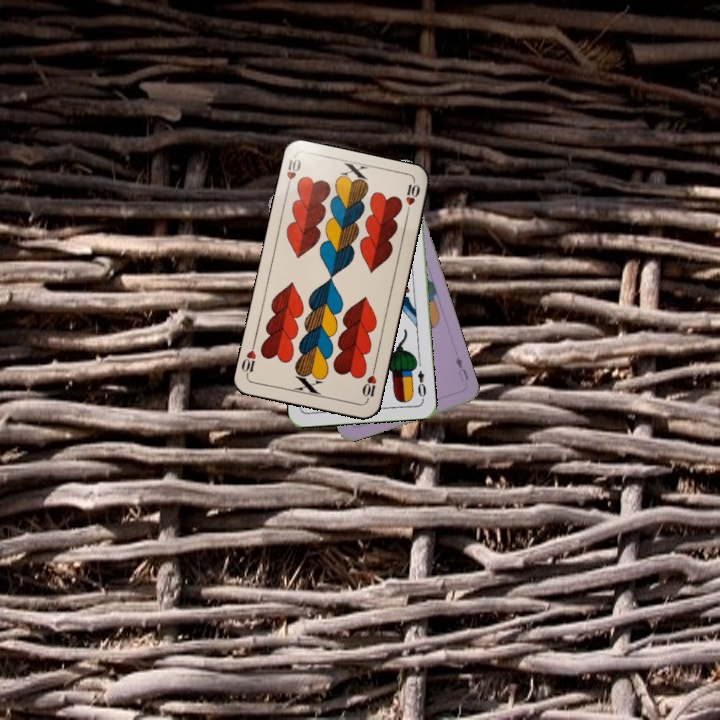EO: (414, 367, 429, 403)
EU: (452, 352, 471, 384)
H10: (358, 364, 379, 404), (282, 155, 304, 193)
